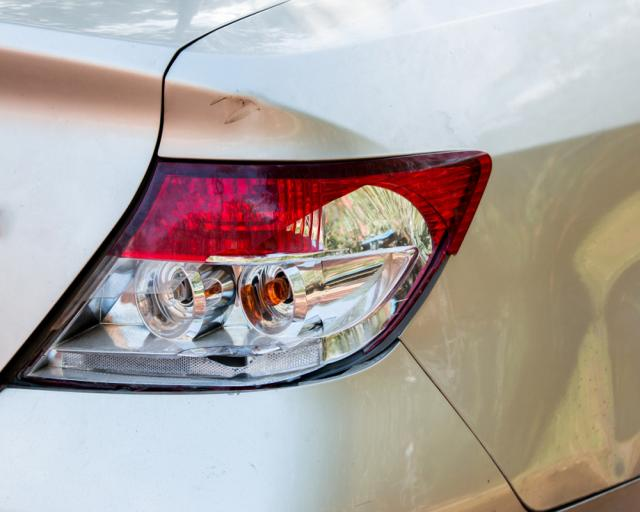lamp broken: (9, 156, 486, 393)
